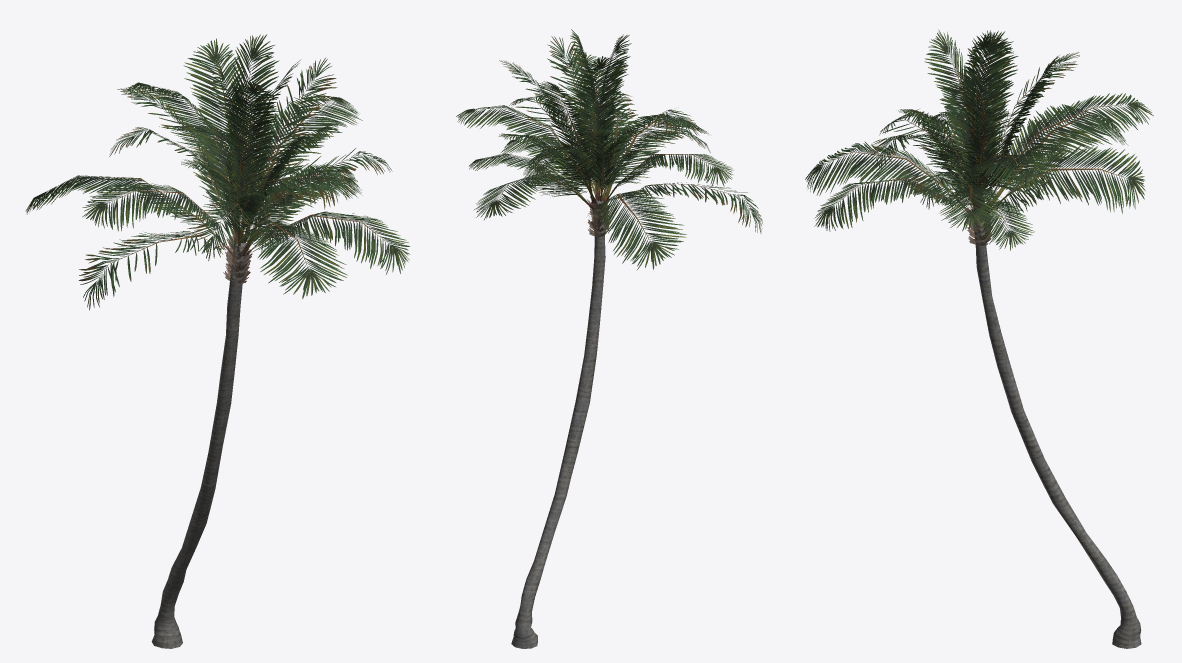
File: MB_Palm_Miami_04.fbx
3 renders of one model, left to right at view 1: azimuth 30°, elevation 25°; view 2: azimuth 150°, elevation 25°; view 3: azimuth 270°, elevation 25°, orthographic. The views are drawn at different scales.
Parts seen in each view (by area): view 1: MB_Palm_Miami_04_LOD0; view 2: MB_Palm_Miami_04_LOD0; view 3: MB_Palm_Miami_04_LOD0.
Boxes of the visible parts, <box> form: MB_Palm_Miami_04_LOD0: <box>25,34,409,648</box>; MB_Palm_Miami_04_LOD0: <box>456,29,762,648</box>; MB_Palm_Miami_04_LOD0: <box>805,29,1153,648</box>.
Size of what is drawn, in the model's own units: 580 by 1157 by 618.
